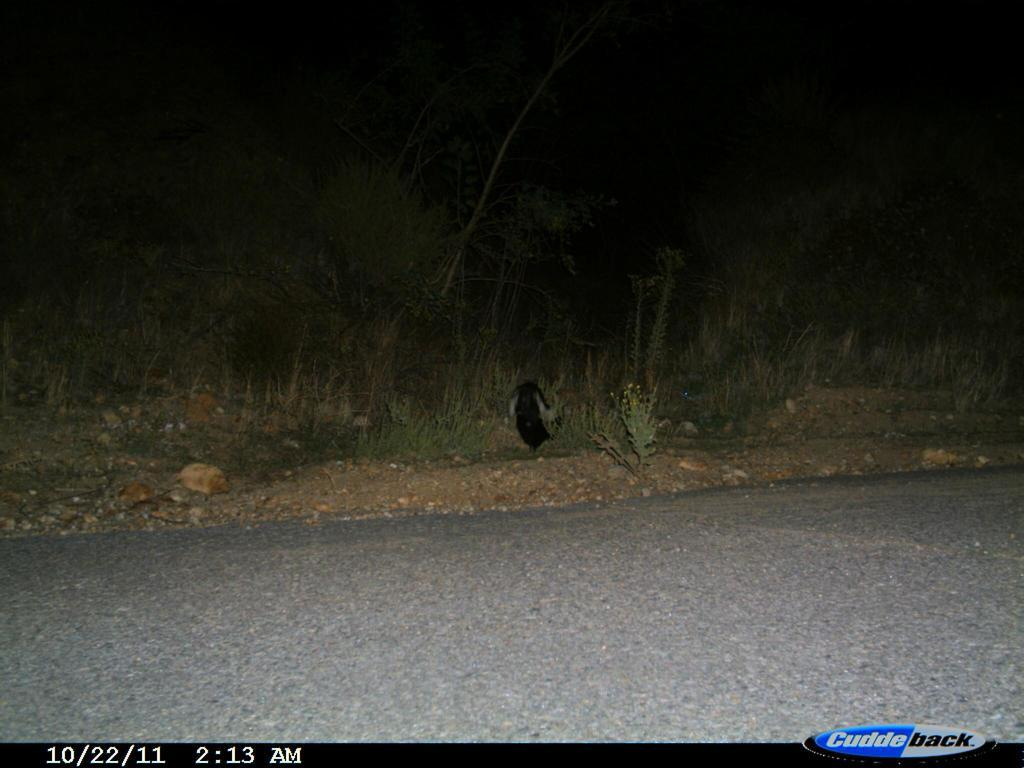skunk: (509, 372, 561, 455)
